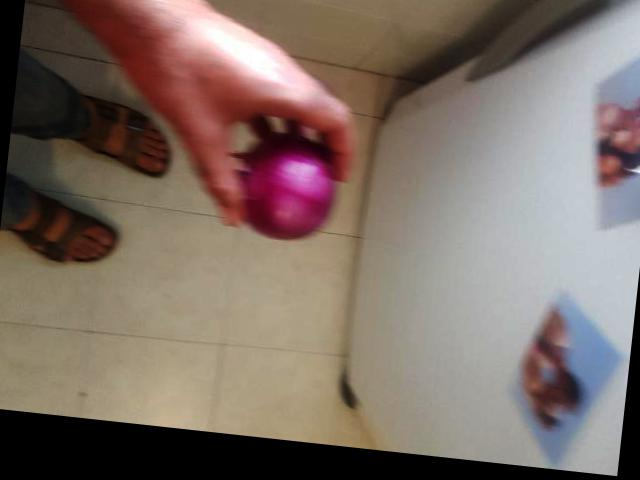onion: (229, 135, 337, 246)
